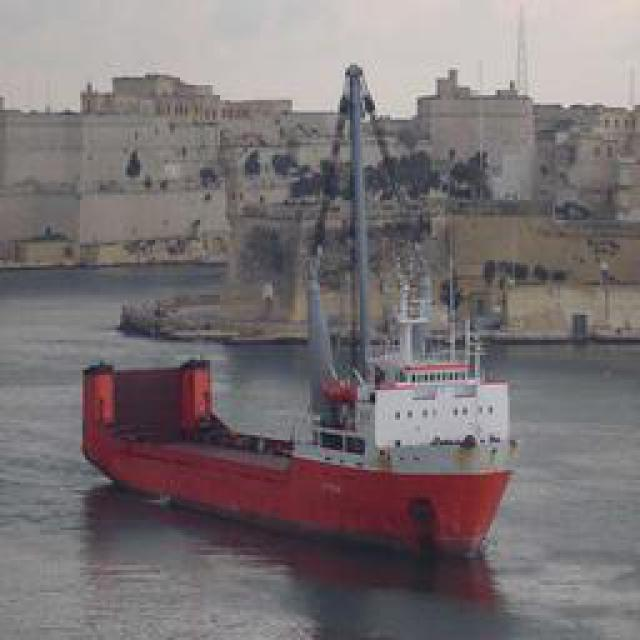Ship: (86, 214, 521, 557)
